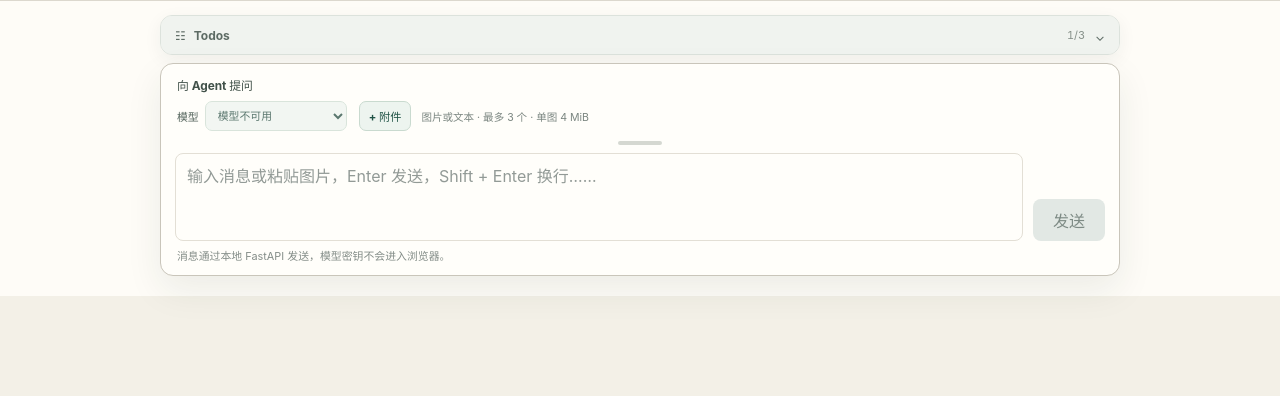
输入框上方 Todo 面板 › 默认收起，展示进度并可展开完整任务清单
Expected: the text "1/3" is shown, [1067,28,1085,42]
Expected: the text "实现界面" is not shown
Click the button "☷ Todos 1/3 ⌃" at (212,35), box [161,16,1119,54]
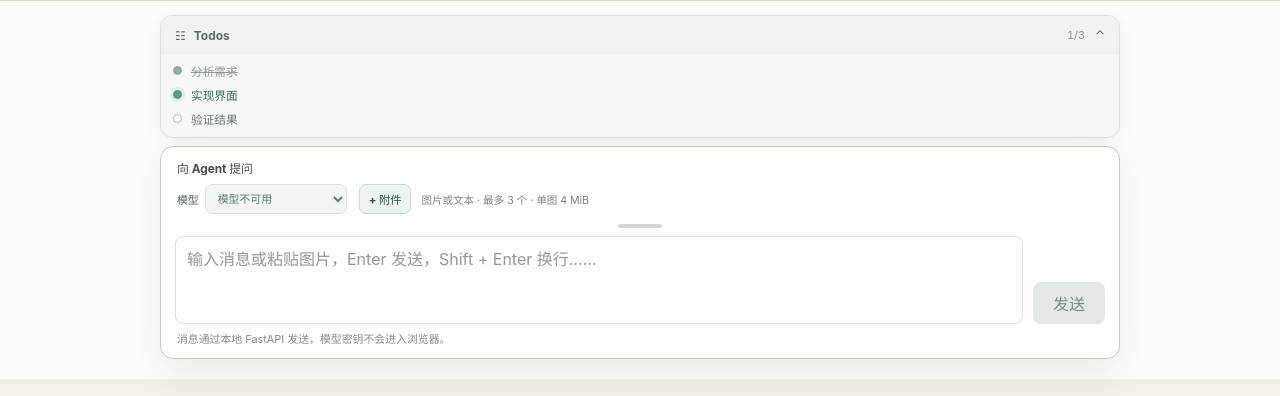
Now the text "分析需求" is shown, box [191,62,238,79]
Now the text "实现界面" is shown, box [191,86,238,103]
Now the text "验证结果" is shown, box [191,110,238,127]
